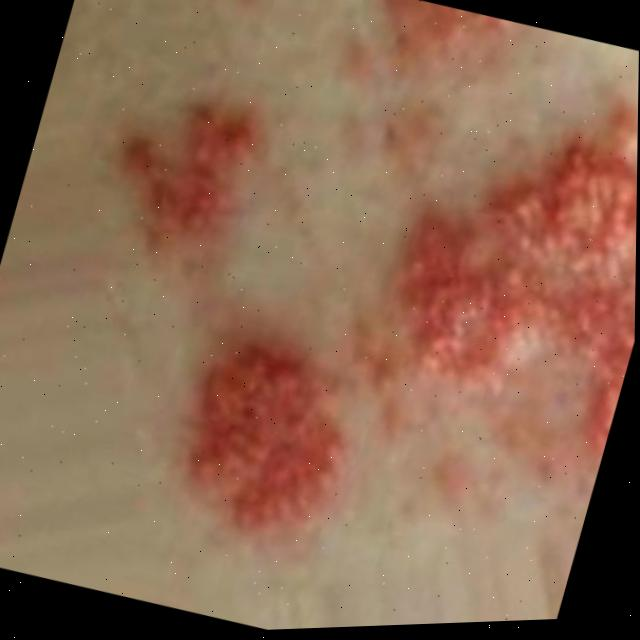Shingles: (24, 0, 640, 631)
